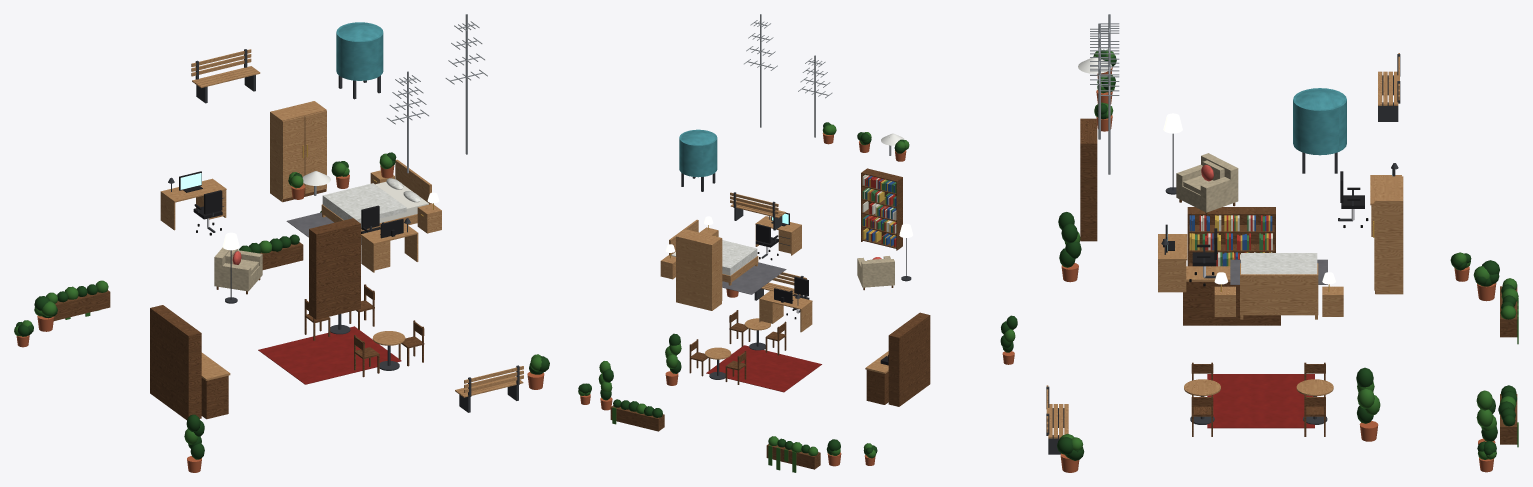
Rendered from i_house_teal_lantern.gltf.
3 renders of one model, left to right at view 1: azimuth 30°, elevation 25°; view 2: azimuth 150°, elevation 25°; view 3: azimuth 270°, elevation 25°, orthographic. The views are drawn at different scales.
Visible parts, largest first — view 1: I_house_teal_lantern; view 2: I_house_teal_lantern; view 3: I_house_teal_lantern.
Boxes of the visible parts, x1,y1,x2,y2 form: I_house_teal_lantern: (14, 14, 549, 472); I_house_teal_lantern: (578, 14, 1017, 472); I_house_teal_lantern: (1046, 14, 1518, 472).
Bounding box in the file's own units: 9.73 × 9.88 × 9.65.
28 materials, 9 textured.
